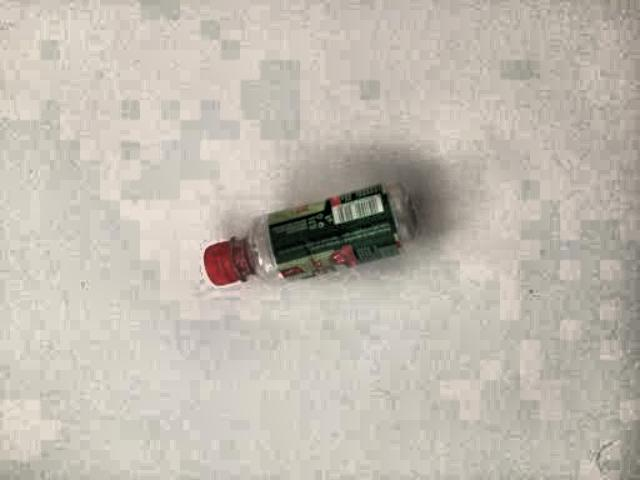Bottles: (171, 165, 450, 318)
